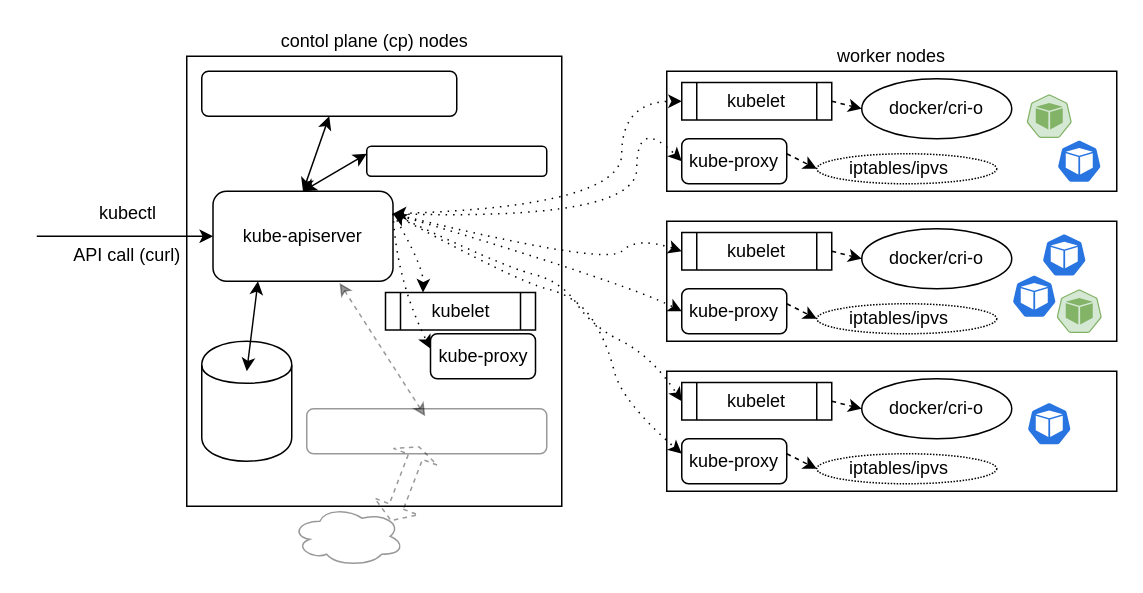
The diagram is 1143 pixels wide and 593 high, and some of its shapes have lost their labels. Each missing label, with the centre of its shape:
cloud-controller-manager: [426,430]
etcd: [246,400]
kube-controller-manager: [328,93]
kube-scheduler: [456,160]
